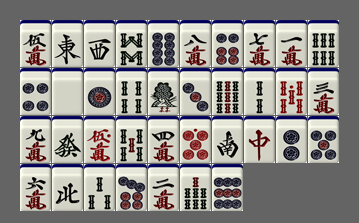0m: (84, 116, 115, 163)
0p: (180, 116, 211, 163)
0s: (276, 68, 307, 115)
1m: (276, 20, 307, 67)
1p: (84, 68, 115, 115)
1s: (148, 68, 179, 115)
1z: (52, 20, 83, 67)
2m: (148, 164, 179, 211)
2p: (276, 116, 307, 163)
2s: (244, 68, 275, 115)
2z: (212, 116, 243, 163)
3m: (308, 68, 339, 115)
3p: (180, 68, 211, 115)
3s: (84, 164, 115, 211)
3z: (84, 20, 115, 67)
4m: (148, 116, 179, 163)
4p: (20, 68, 51, 115)
4s: (116, 68, 147, 115)
4z: (52, 164, 83, 211)
5m: (20, 20, 51, 67)
5p: (308, 116, 339, 163)
5s: (116, 116, 147, 163)
5z: (52, 68, 83, 115)
6m: (20, 164, 51, 211)
6p: (212, 20, 243, 67)
6s: (308, 20, 339, 67)
6z: (52, 116, 83, 163)
7m: (244, 20, 275, 67)
7p: (116, 164, 147, 211)
7s: (180, 164, 211, 211)
7z: (244, 116, 275, 163)
8m: (180, 20, 211, 67)
8p: (148, 20, 179, 67)
8s: (116, 20, 147, 67)
9m: (20, 116, 51, 163)
9p: (212, 164, 243, 211)
9s: (212, 68, 243, 115)
